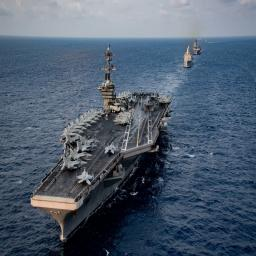Fragata: (184, 40, 195, 74), (194, 32, 203, 58)
Portanaves: (25, 42, 178, 249)
